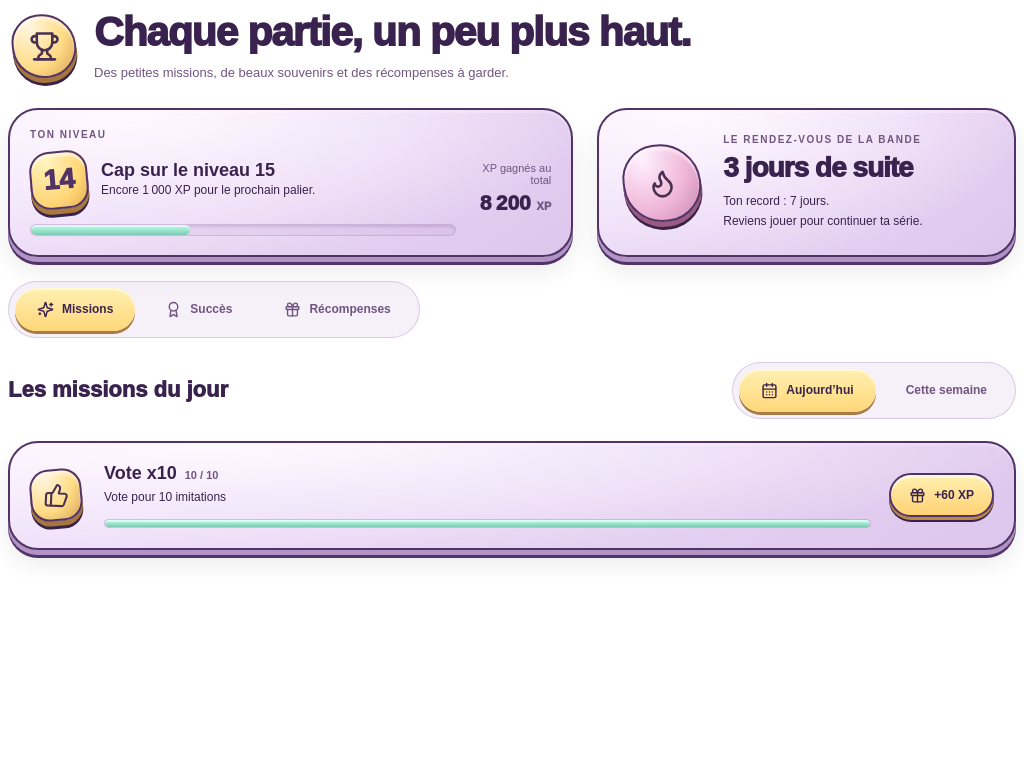
Test case: Bubble progression › switches daily/weekly missions and supports keyboard tabs
The image size is (1024, 768).
Step 1. Click the tab "Cette semaine" → click(946, 390), box top-left (884, 369), bottom-right (1009, 412)
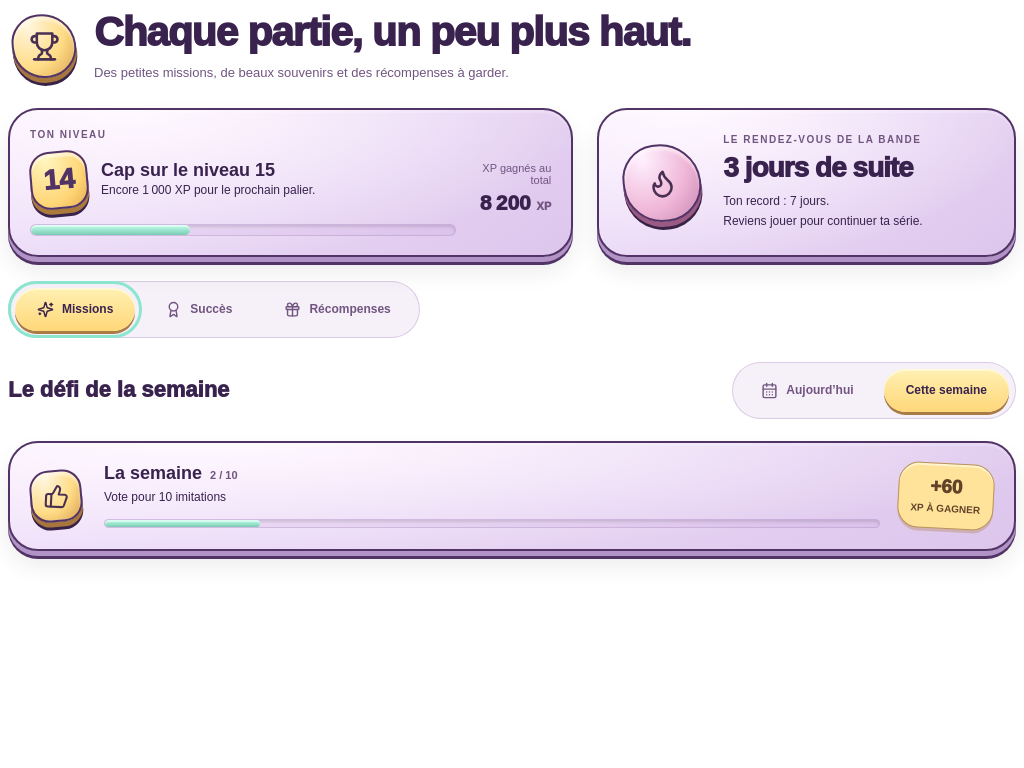
Check: the heading "La semaine2 / 10" is shown, box top-left (104, 463), bottom-right (238, 483)
Step 2. Press ArrowRight in the tab "Missions", box top-left (15, 288), bottom-right (135, 331)
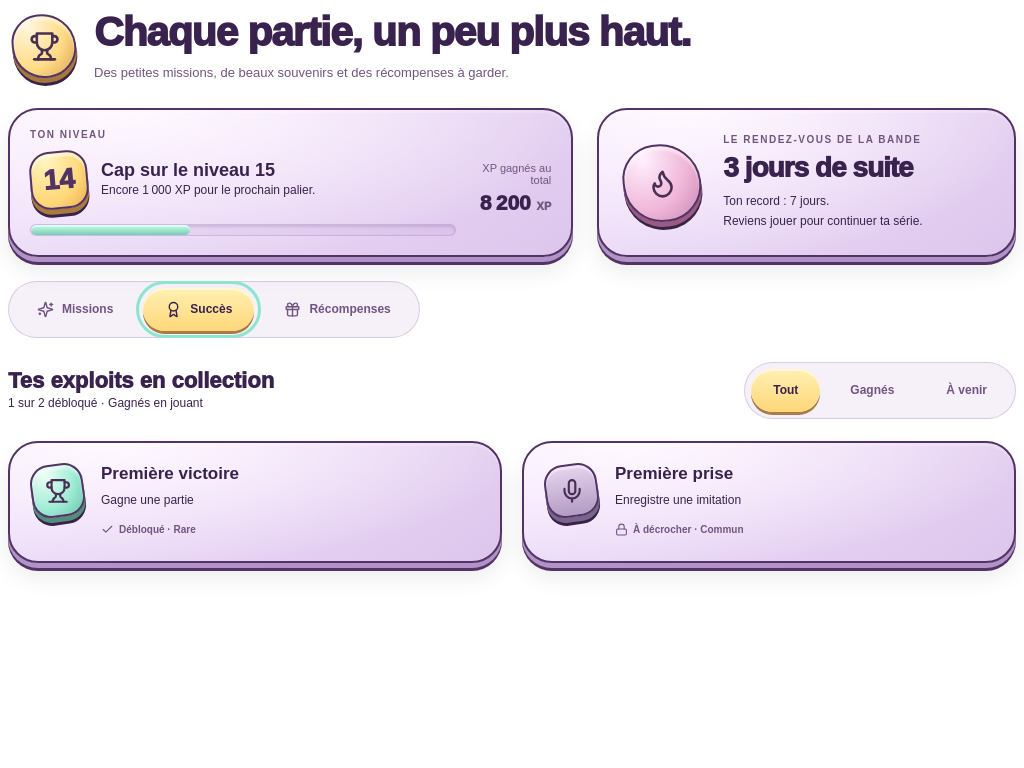
Check: the heading "Première victoire" is shown, box top-left (101, 464), bottom-right (239, 484)
